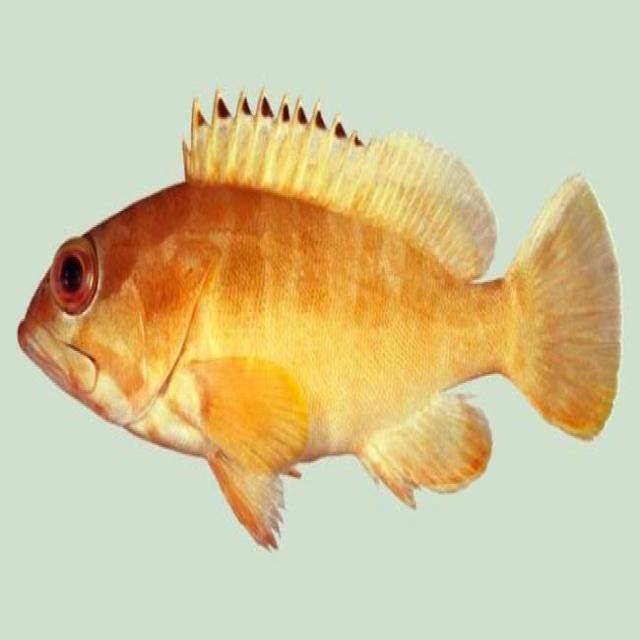ikan: (16, 84, 622, 552)
